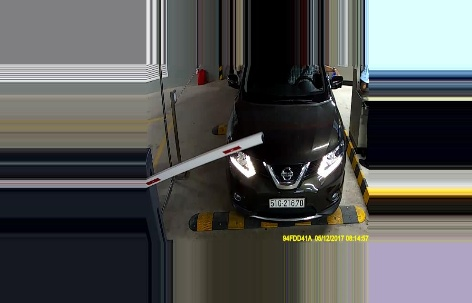plate: (268, 196, 308, 210)
